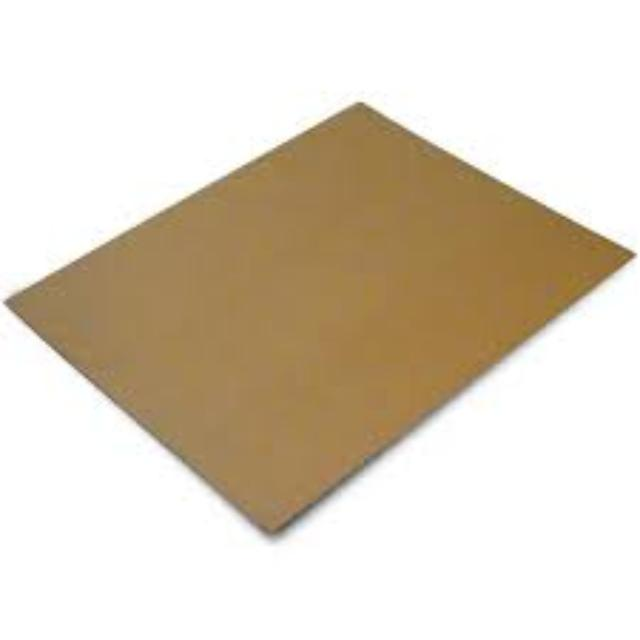cardboard paper: (6, 100, 626, 526)
